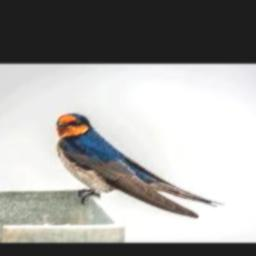Swallow: (57, 113, 225, 218)
